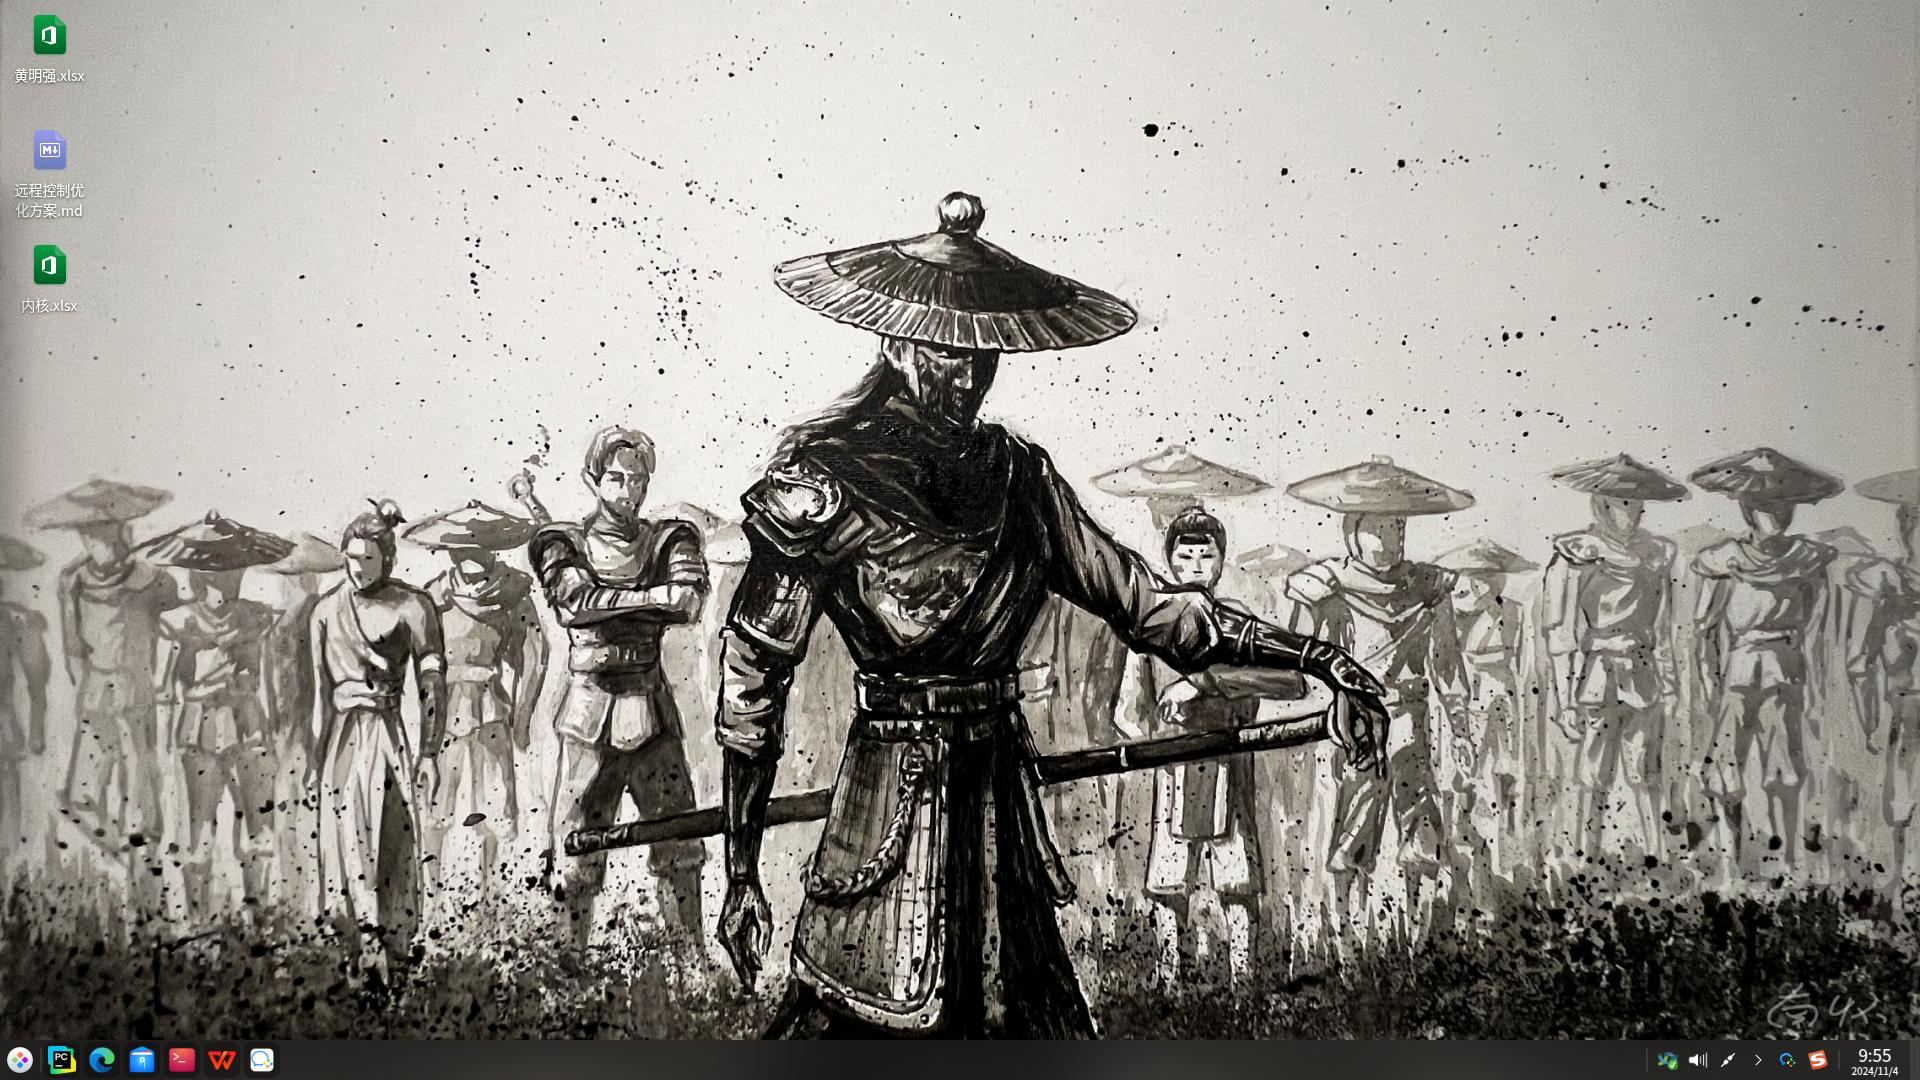dde_file_manager_icon: (129, 1047, 156, 1073)
dde_launcher_icon: (7, 1046, 33, 1075)
